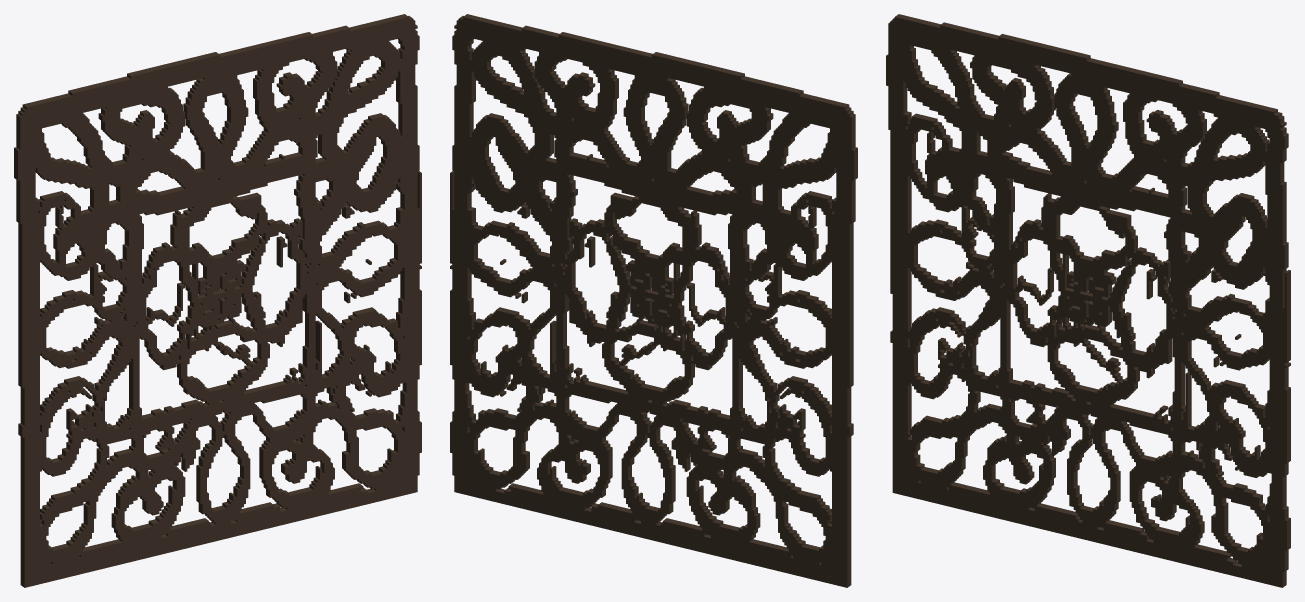
File: lattice_window.glb
The picture shows the model from 3 angles, left to right: view 1: azimuth 30°, elevation 25°; view 2: azimuth 150°, elevation 25°; view 3: azimuth 330°, elevation 25°; orthographic projection.
Parts seen in each view (by area): view 1: Lattice_Silhouette; view 2: Lattice_Silhouette; view 3: Lattice_Silhouette.
Part boxes in pixels (x1,y1,x2,y2): Lattice_Silhouette: [14, 14, 421, 587]; Lattice_Silhouette: [450, 14, 857, 587]; Lattice_Silhouette: [886, 14, 1290, 587].
Size of the model in its own units: 1.5 by 1.72 by 0.026.
